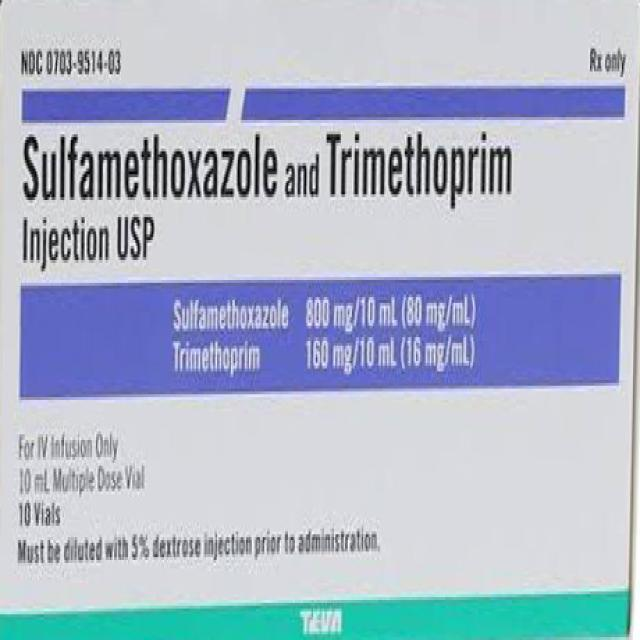drug-name: (22, 117, 518, 215)
